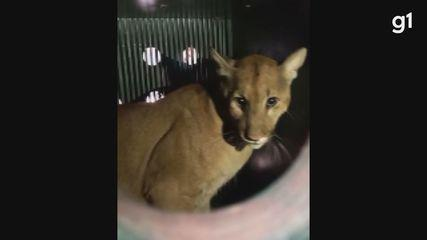OncaParda: (124, 46, 306, 214)
